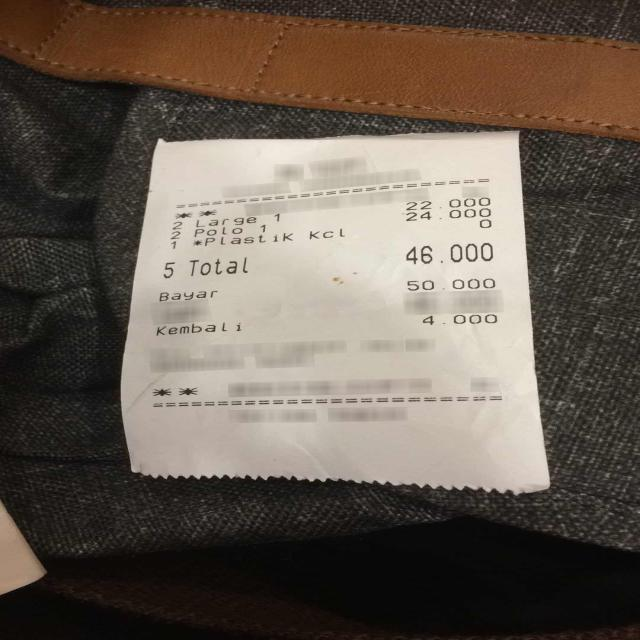kertas: (114, 132, 549, 503)
